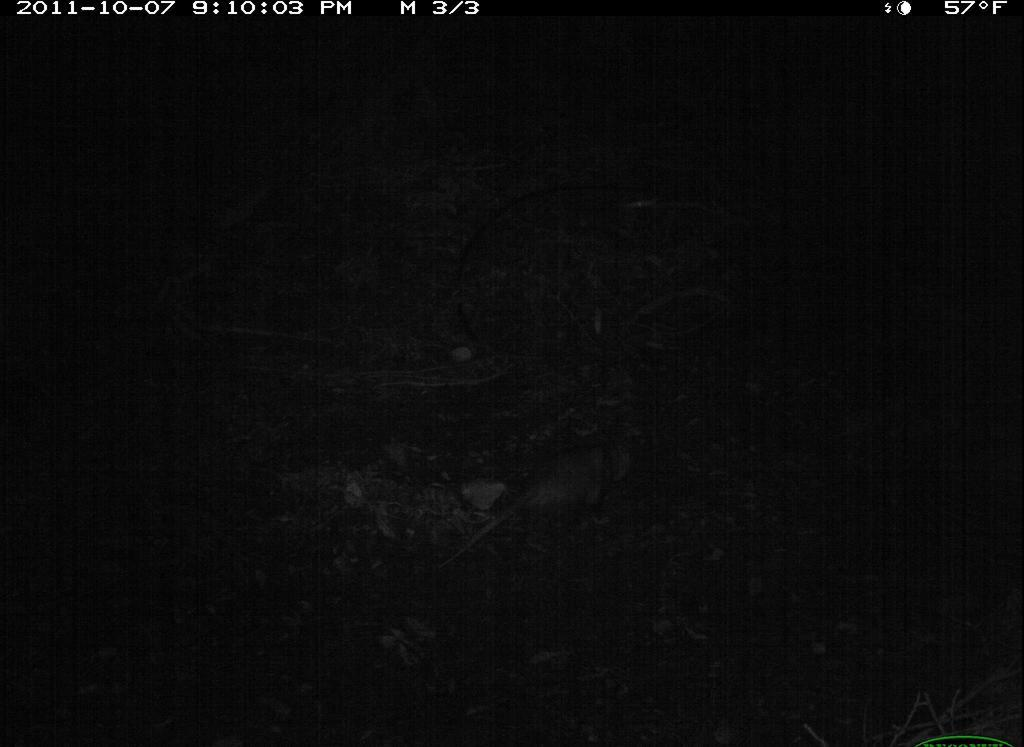opossum: (427, 411, 632, 589)
